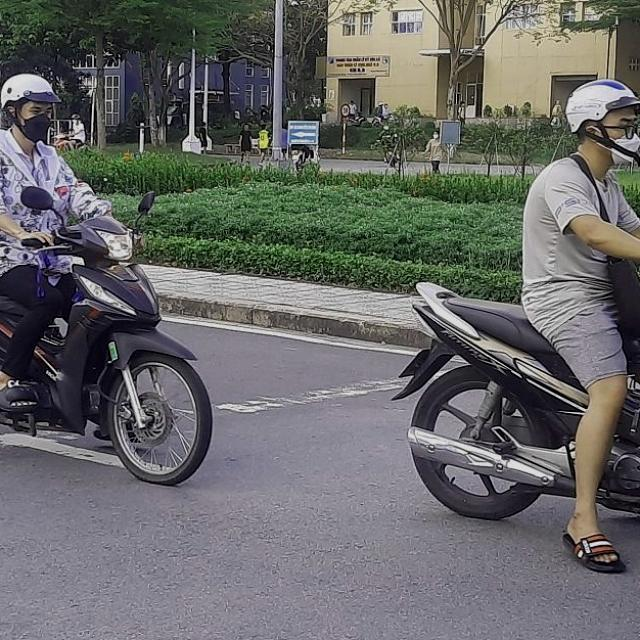Helmet: (568, 78, 640, 170), (0, 71, 61, 152)
